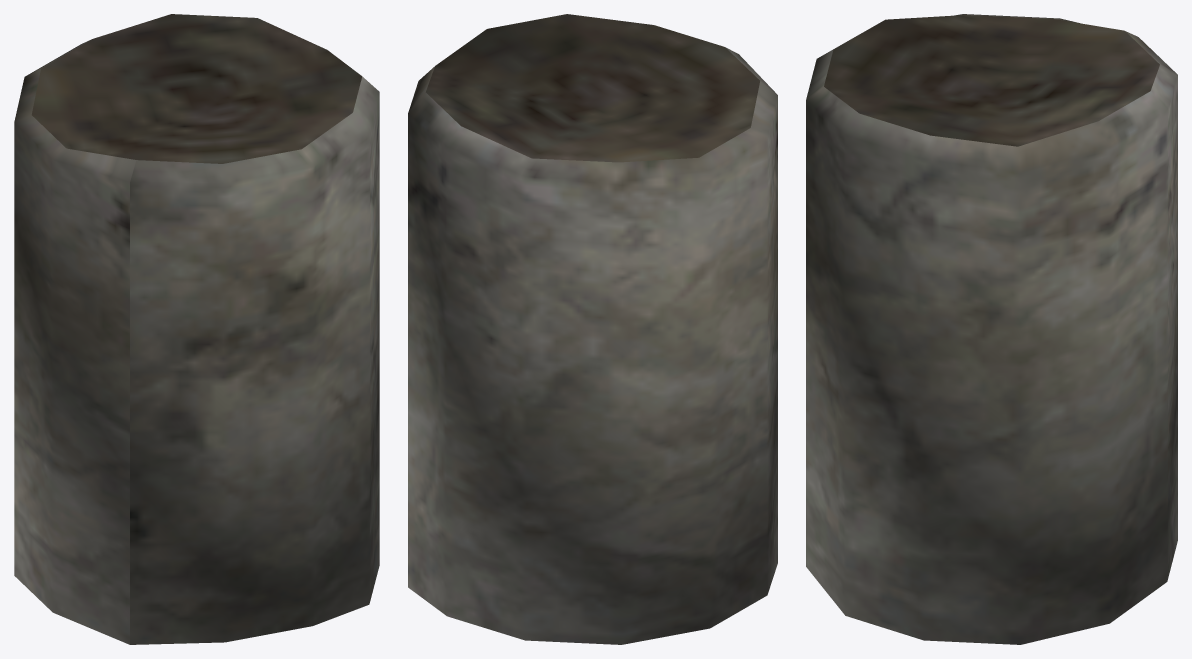
The model's file is Common_Props_Bandages_BandageRoll_3P_LOD0.glb.
3 views of the same model, side by side, from view 1: azimuth 30°, elevation 25°; view 2: azimuth 150°, elevation 25°; view 3: azimuth 270°, elevation 25° (orthographic).
Parts seen in each view (by area): view 1: Hoodie; view 2: Hoodie; view 3: Hoodie.
Part boxes in pixels (<box>): Hoodie: <box>14,14,379,644</box>; Hoodie: <box>408,14,777,644</box>; Hoodie: <box>806,14,1177,644</box>.
Bounding box in the file's own units: 0.0803 × 0.1201 × 0.0803.
1 material, 1 textured.
